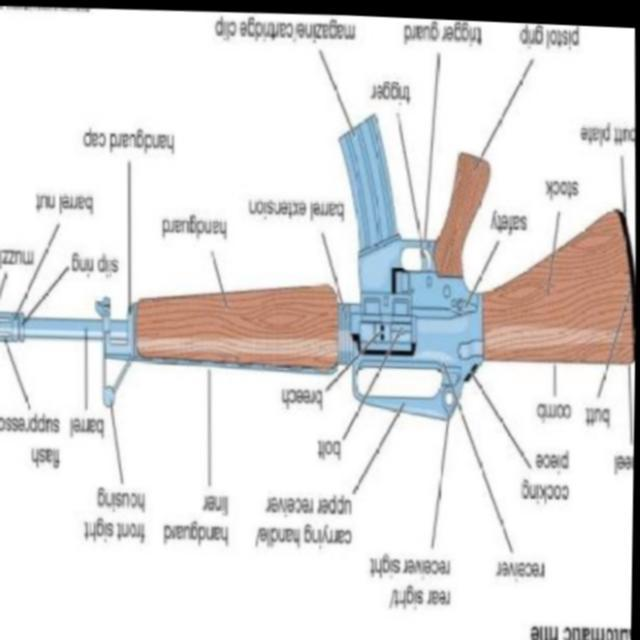weapon: (0, 96, 639, 456)
